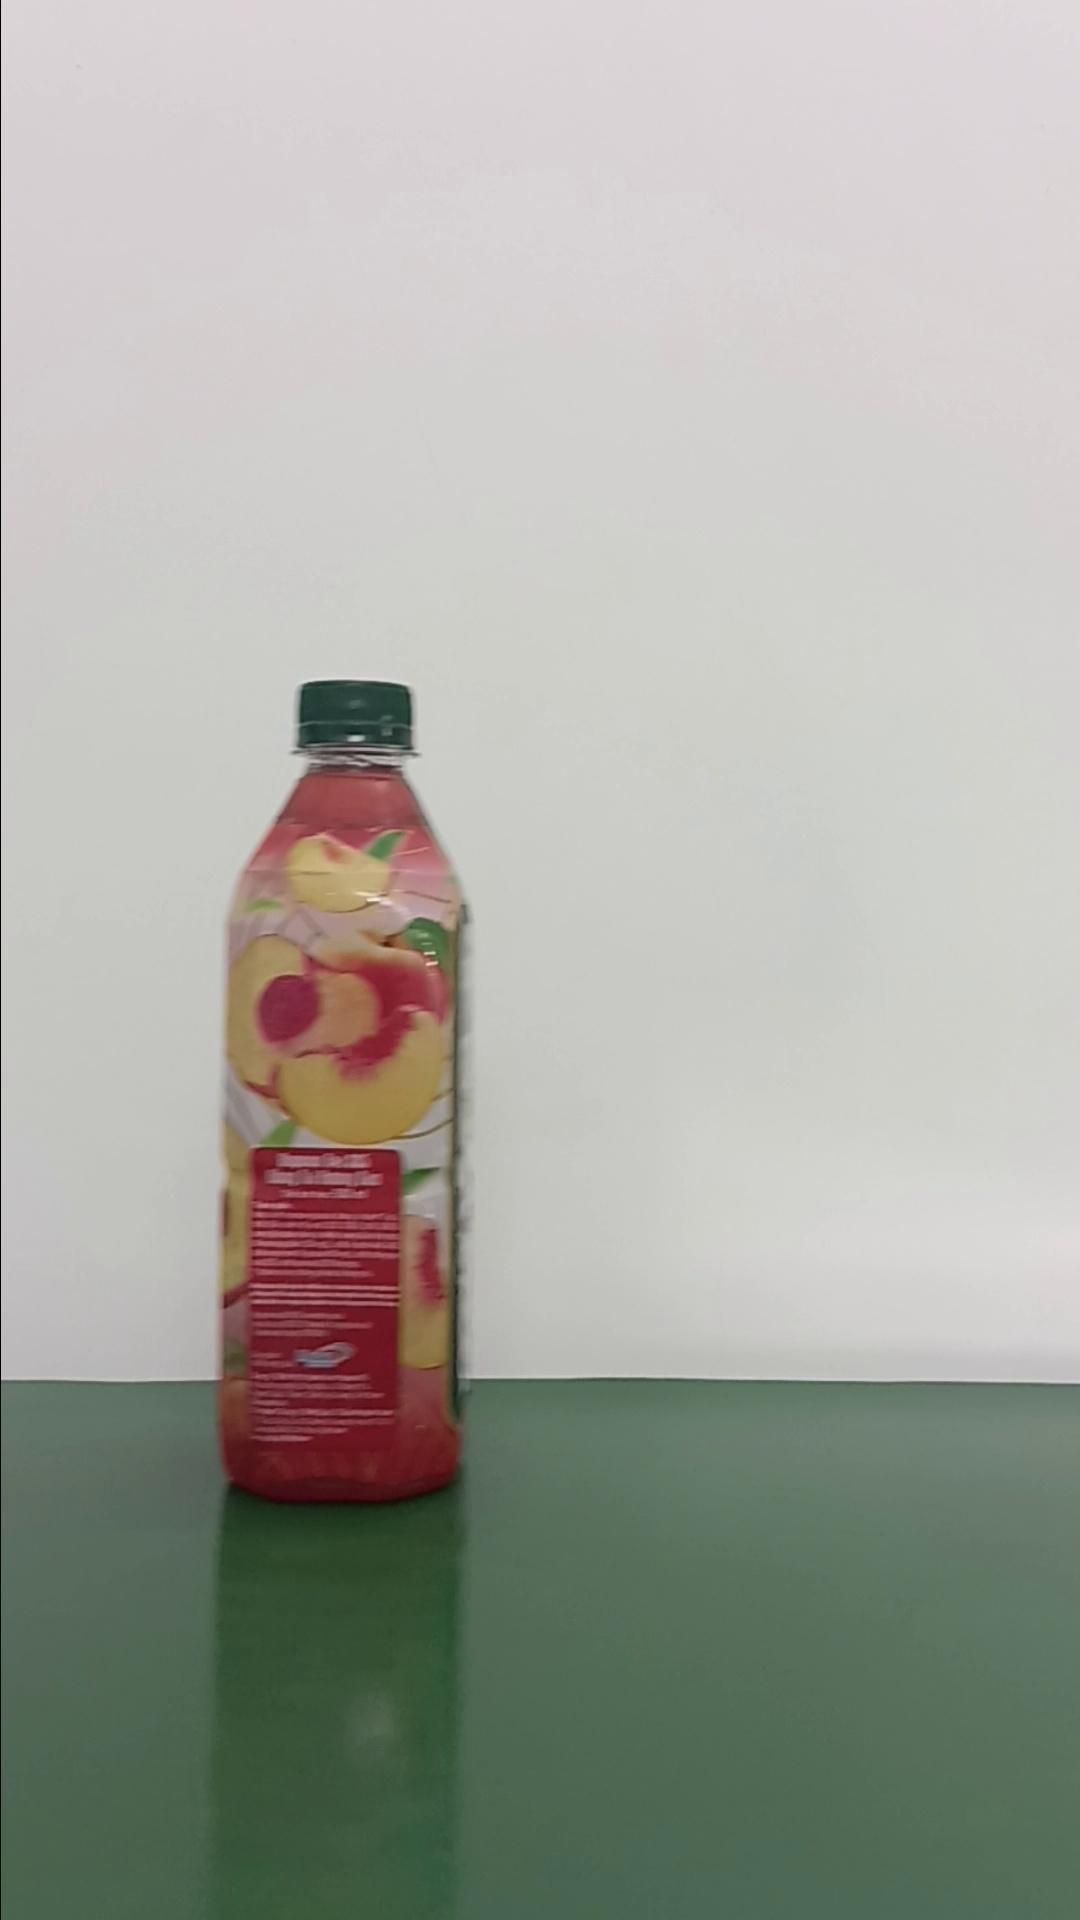khong loi: (214, 676, 469, 1502)
